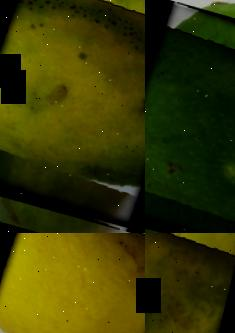PartiallyRipe: (0, 0, 145, 233), (145, 233, 235, 333)
Ripe: (0, 233, 145, 333)
Unripe: (145, 0, 235, 233)
